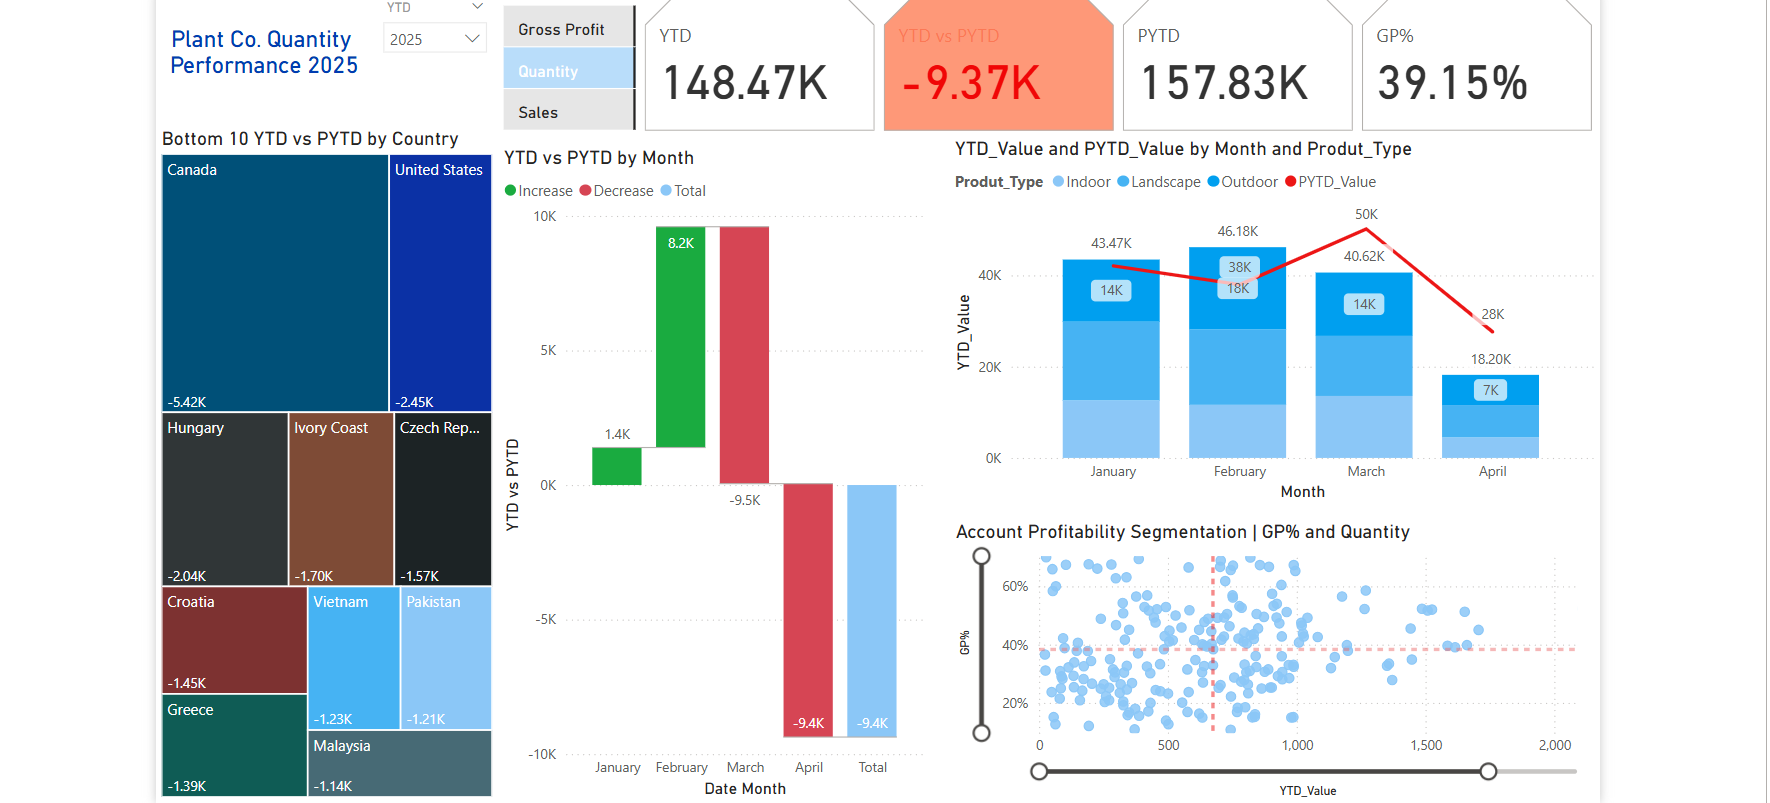

The dashboard page shown, as its layout file describes it:
{"tool":"powerbi","page":{"name":"Page 1","canvas":[1280,720],"ordinal":0},"visuals":[{"type":"cardVisual","fields":{"Data":["_Measures.S_YTD","_Measures.YTD vs PYTD","_Measures.S_PYTD","_Measures.GP%"]},"box":[427.9,0,852.3,129.1],"z":0},{"type":"advancedSlicerVisual","fields":{"Values":["Slicer Values.Values"]},"box":[303.5,8.1,127.9,120.9],"z":1000},{"type":"slicer","fields":{"Values":["Dim_Date.Date.Variation.Date Hierarchy.Year"]},"box":[192.3,13.5,110.2,50.9],"z":2000},{"type":"treemap","title":"Bottom 10 YTD vs PYTD by Country","fields":{"Values":["_Measures.YTD vs PYTD"],"Group":["Dim_Account.Country"]},"box":[0,137.2,303.5,583],"z":3000},{"type":"waterfallChart","fields":{"Y":["_Measures.YTD vs PYTD"],"Category":["Dim_Date.Date.Variation.Date Hierarchy.Month","Dim_Account.Country","Dim_Product.Produt_Type","Dim_Product.Product_Name_id"]},"box":[303.5,137.2,382.6,582.6],"z":4000},{"type":"lineStackedColumnComboChart","fields":{"Y":["_Measures.S_YTD"],"Y2":["_Measures.S_PYTD"],"Category":["Dim_Date.Date.Variation.Date Hierarchy.Month"],"Series":["Dim_Product.Produt_Type"]},"box":[703.5,129.1,576.7,327.9],"z":5000},{"type":"scatterChart","title":"Account Profitability Segmentation | GP% and Quantity","fields":{"Y":["_Measures.GP%"],"X":["_Measures.S_YTD"],"Category":["Dim_Account.Account"]},"box":[704,469,576,251],"z":6000},{"type":"card","fields":{"Values":["_Measures._Report title"]},"box":[0,0,192.3,64.4],"z":7000}]}

Visuals, with their boxes on the page's 1280x720 design canvas (x1, y1, x2, y2). These are canvas units, not pixel positions in the 1770x803 screenshot, which may show the page scaled, cropped or inside an application window:
cardVisual - _Measures.S_YTD x _Measures.YTD vs PYTD: l=428, t=0, r=1280, b=129
advancedSlicerVisual - Slicer Values.Values: l=304, t=8, r=431, b=129
slicer - Dim_Date.Date.Variation.Date Hierarchy.Year: l=192, t=14, r=302, b=64
"Bottom 10 YTD vs PYTD by Country" treemap: l=0, t=137, r=304, b=720
waterfallChart - _Measures.YTD vs PYTD x Dim_Date.Date.Variation.Date Hierarchy.Month: l=304, t=137, r=686, b=720
lineStackedColumnComboChart - _Measures.S_YTD x _Measures.S_PYTD: l=704, t=129, r=1280, b=457
"Account Profitability Segmentation | GP% and Quantity" scatterChart: l=704, t=469, r=1280, b=720
card - _Measures._Report title: l=0, t=0, r=192, b=64
